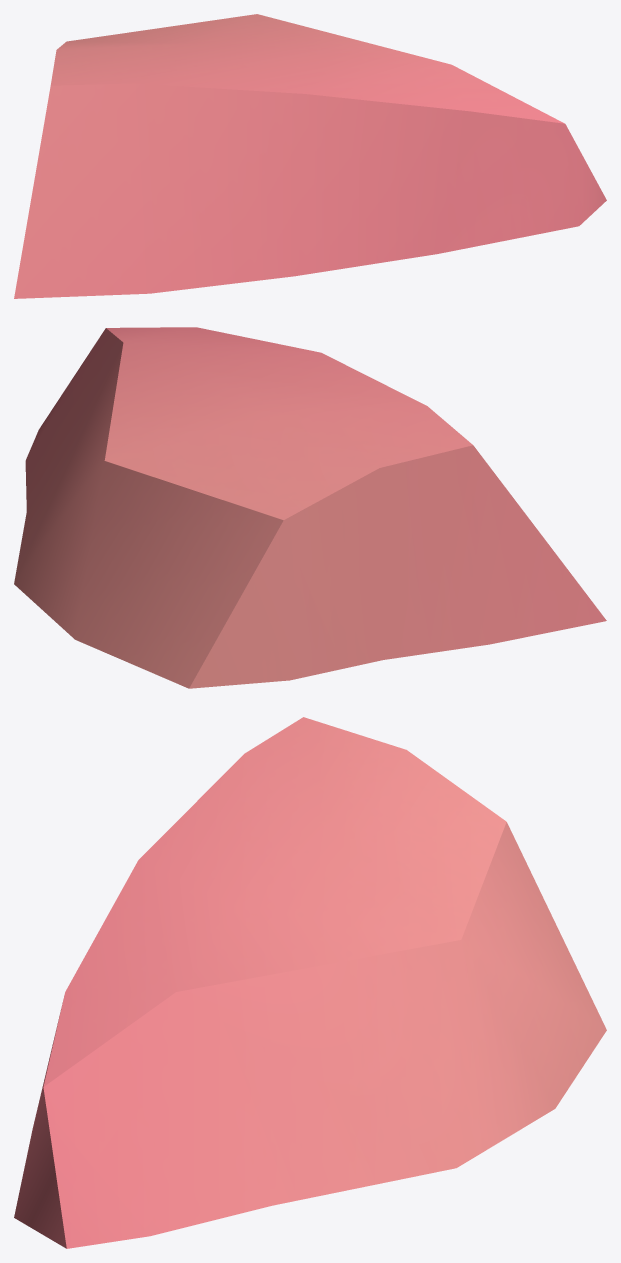
File: Sunset_Stone_001.FBX
3 renders of one model, top to bottom at view 1: azimuth 30°, elevation 25°; view 2: azimuth 150°, elevation 25°; view 3: azimuth 270°, elevation 25°, orthographic. The views are drawn at different scales.
Visible parts, largest first — view 1: Sunset_Stone_001; view 2: Sunset_Stone_001; view 3: Sunset_Stone_001.
Part boxes in pixels (x1,y1,x2,y2): Sunset_Stone_001: [14, 14, 606, 298]; Sunset_Stone_001: [14, 327, 606, 688]; Sunset_Stone_001: [14, 717, 606, 1248].
Bounding box in the file's own units: 293 × 86.26 × 204.
1 material, 1 textured.
